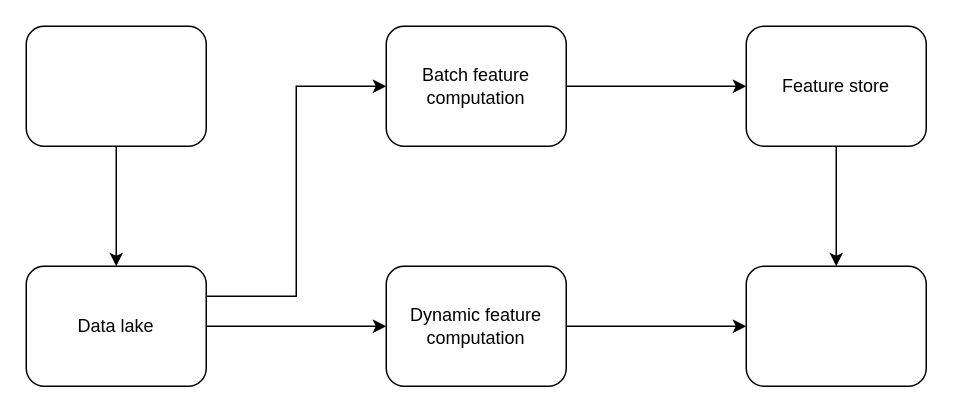
Image size: 953x413. Some labels were removed from this diagram. The shapes that lost their labels are listed below. From the top down, each one's centre as x and y in pixels, then its label:
pixel 115 85: User-feed interaction data
pixel 835 325: Training data
